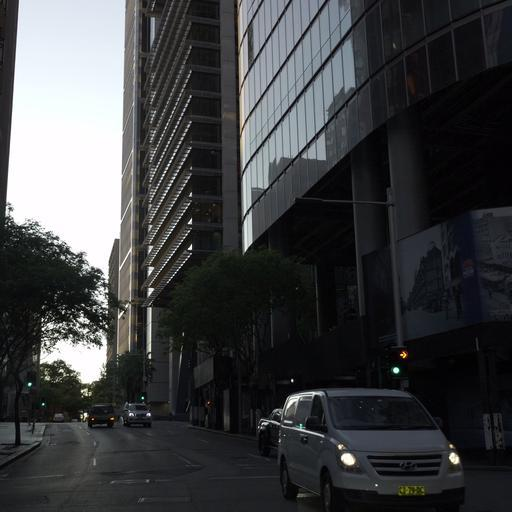Street light: (293, 193, 408, 387), (26, 379, 32, 387)
